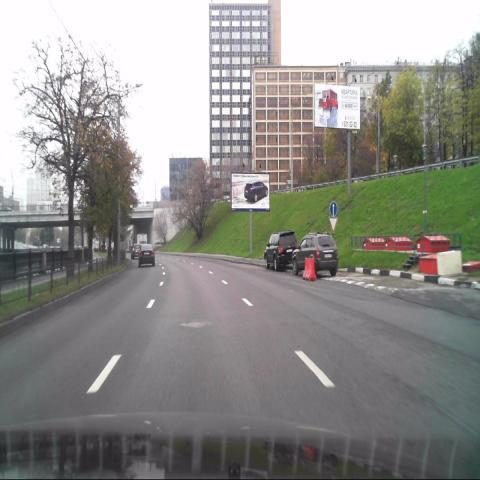2_4: (329, 215, 338, 232)
4_1_1: (328, 200, 338, 216)
